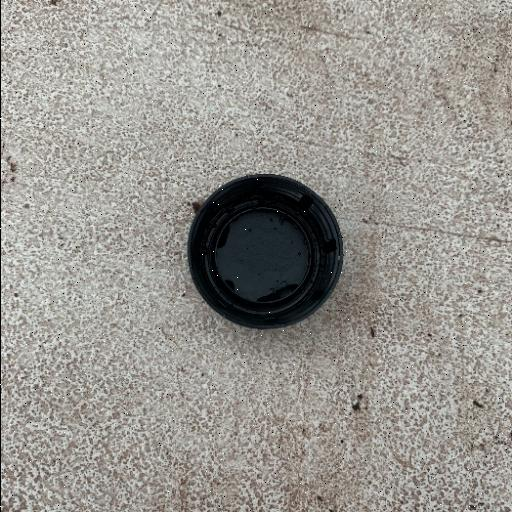Plastic: (185, 171, 345, 331)
